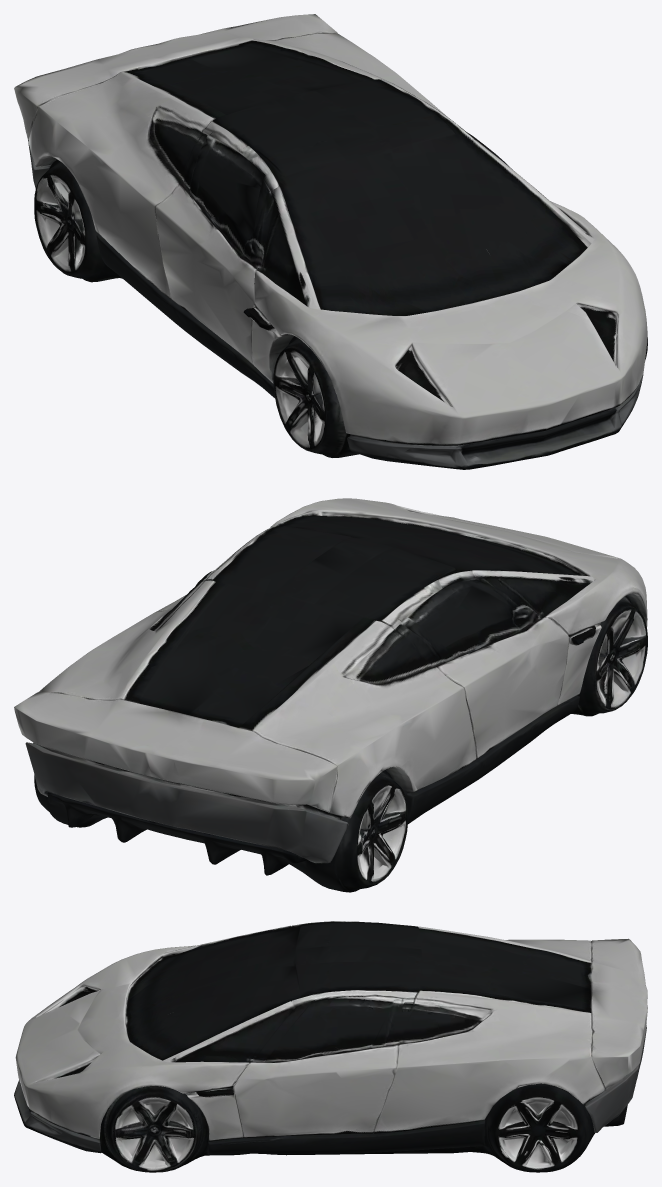
The model's file is apex_hi.glb.
The picture shows the model from 3 angles, top to bottom: view 1: azimuth 30°, elevation 25°; view 2: azimuth 150°, elevation 25°; view 3: azimuth 270°, elevation 25°; orthographic projection. The views are drawn at different scales.
Visible parts, largest first — view 1: tripo_node_3b1cfda7-6393-4502-aeaf-d1cabfa22e0d; view 2: tripo_node_3b1cfda7-6393-4502-aeaf-d1cabfa22e0d; view 3: tripo_node_3b1cfda7-6393-4502-aeaf-d1cabfa22e0d.
Boxes of the visible parts, x1,y1,x2,y2 form: tripo_node_3b1cfda7-6393-4502-aeaf-d1cabfa22e0d: (14, 14, 647, 469); tripo_node_3b1cfda7-6393-4502-aeaf-d1cabfa22e0d: (14, 498, 647, 892); tripo_node_3b1cfda7-6393-4502-aeaf-d1cabfa22e0d: (14, 921, 647, 1172).
Bounding box in the file's own units: 0.4787 × 0.2793 × 0.9806.
1 material, 1 textured.
